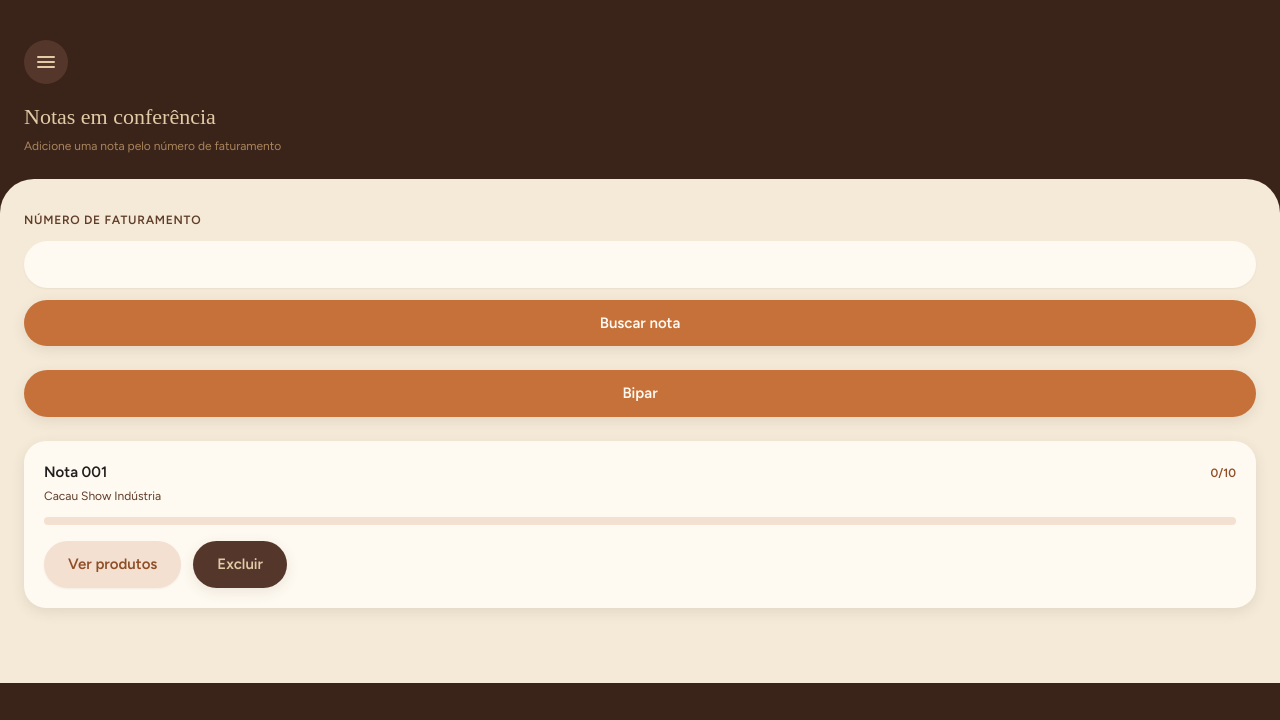
Scenario: NotesQueueScreen › UT-043: excluir a única nota aberta deixa o estado vazio na tela
Expected: the text "Nota 001" is shown, [44,460,107,483]
Step 1. Click the button "Excluir" → (240,564), box [193,541,287,588]
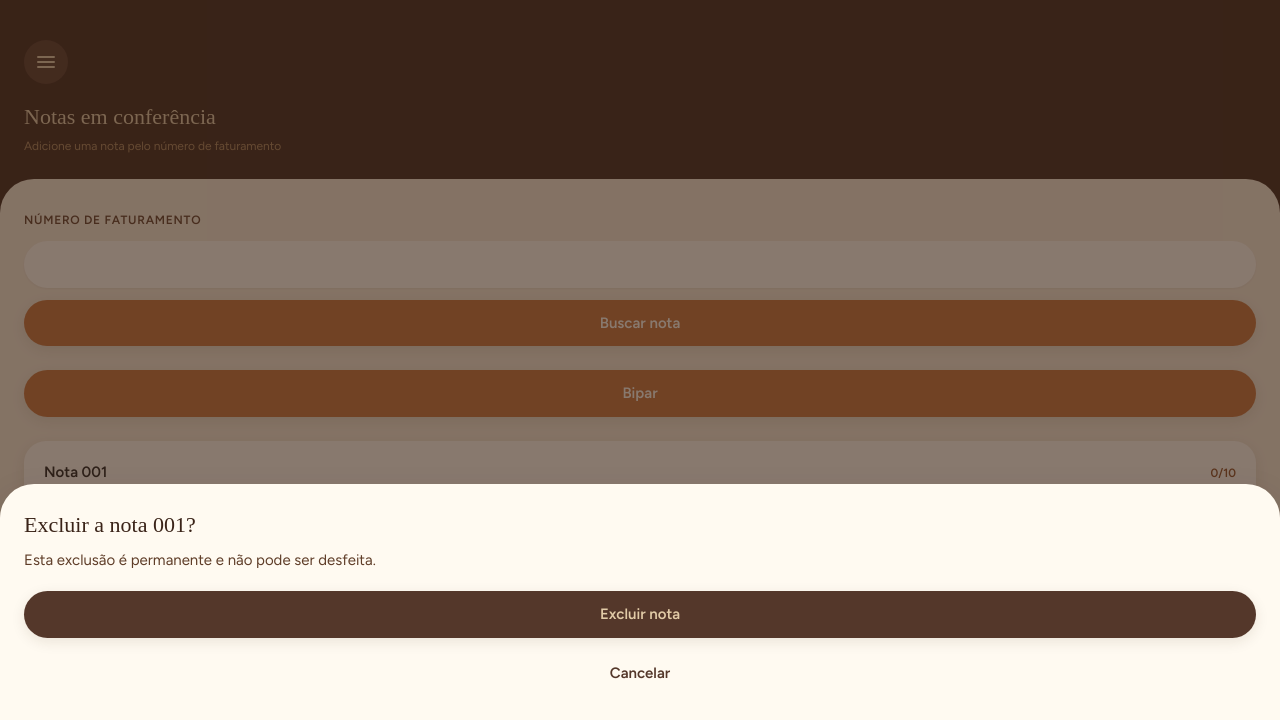
Step 2. Click the button "Excluir nota" → (640,614), box [24,591,1256,638]
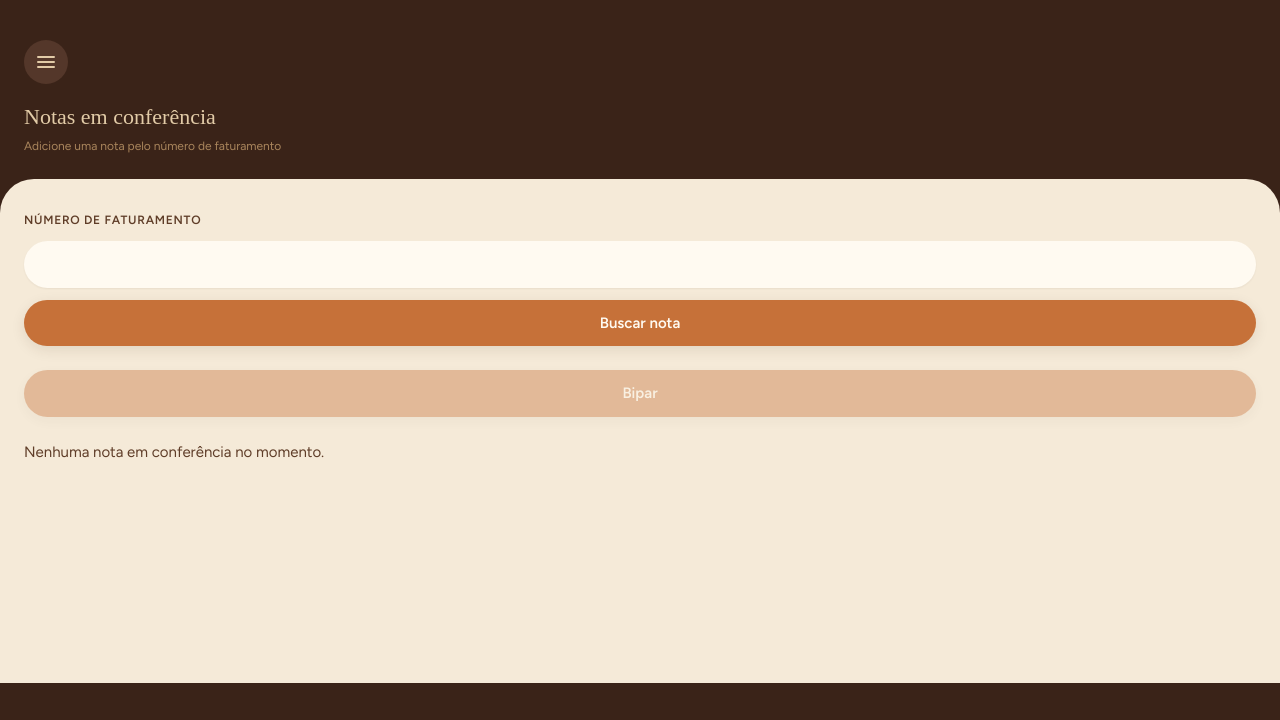
Now the text "Nenhuma nota em conferência no momento." is shown, box [24,442,324,460]
Now the button "Bipar" is disabled, box [24,370,1256,416]
